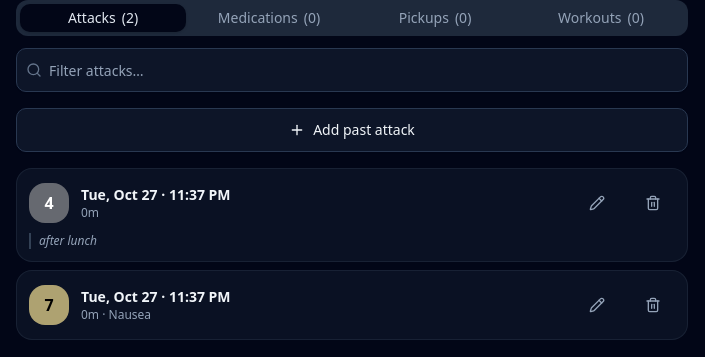
Test: History tab bar › filters the active tab without changing the counts
Check: the text "(2)" is shown, box [122,8,138,28]
In the search field labelled "Filter attacks": coordinates (352, 70) [16,48,688,92], type "nausea"
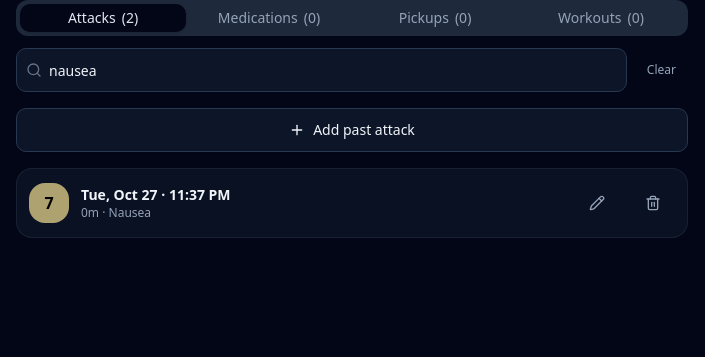
Check: the text "(2)" is shown, box [122,8,138,28]
Check: the text "after lunch" is gone
Replace the text in the search field named "Filter attacks" with "zzz": coordinates (321, 70) [16,48,627,92]
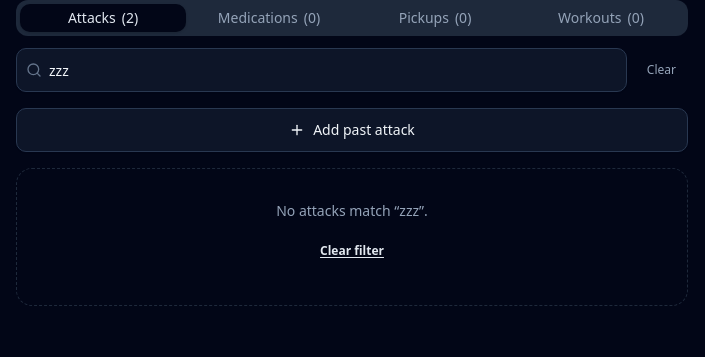
Check: the text "No attacks match “zzz”." is shown, box [276,201,428,220]
Click the button "Clear filter": coordinates (352, 251) [308,229,396,273]
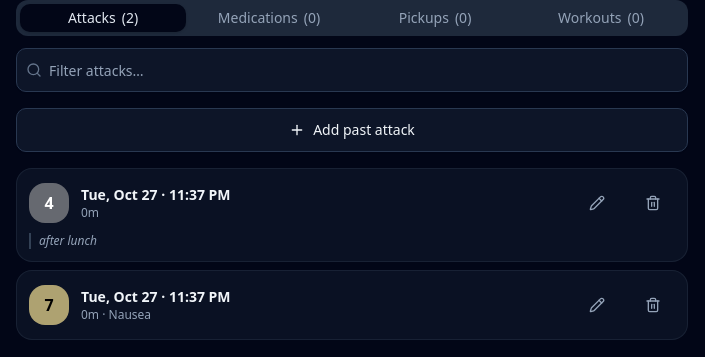
Check: the search field labelled "Filter attacks" is empty, box [16,48,688,92]
Check: the text "after lunch" is shown once, box [29,233,675,249]
